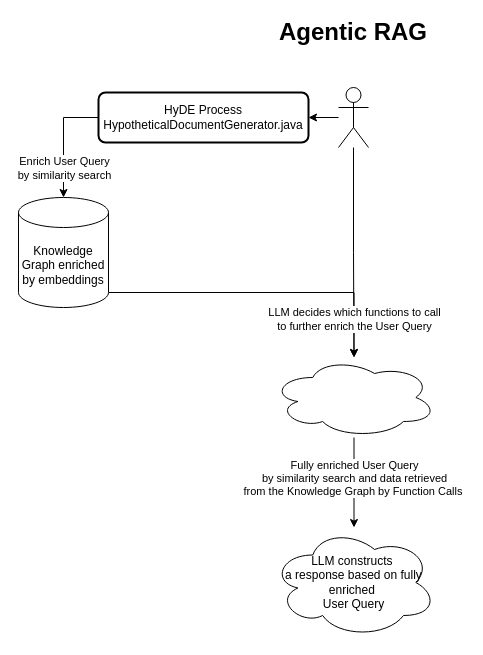
Some shapes in this 483 by 655 pixel diagram are drawn without their labels. The centre of each missing label's shape, as x and y in pixels:
"Function Calling by LLM GraphRetrieval.java" belongs at point 353,397.
"User Query" belongs at point 353,117.
